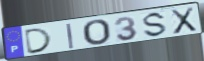3: (113, 15, 139, 42)
D: (24, 26, 54, 55)
I: (65, 22, 76, 50)
O: (81, 19, 112, 47)
S: (142, 11, 169, 38)
X: (169, 6, 198, 36)
